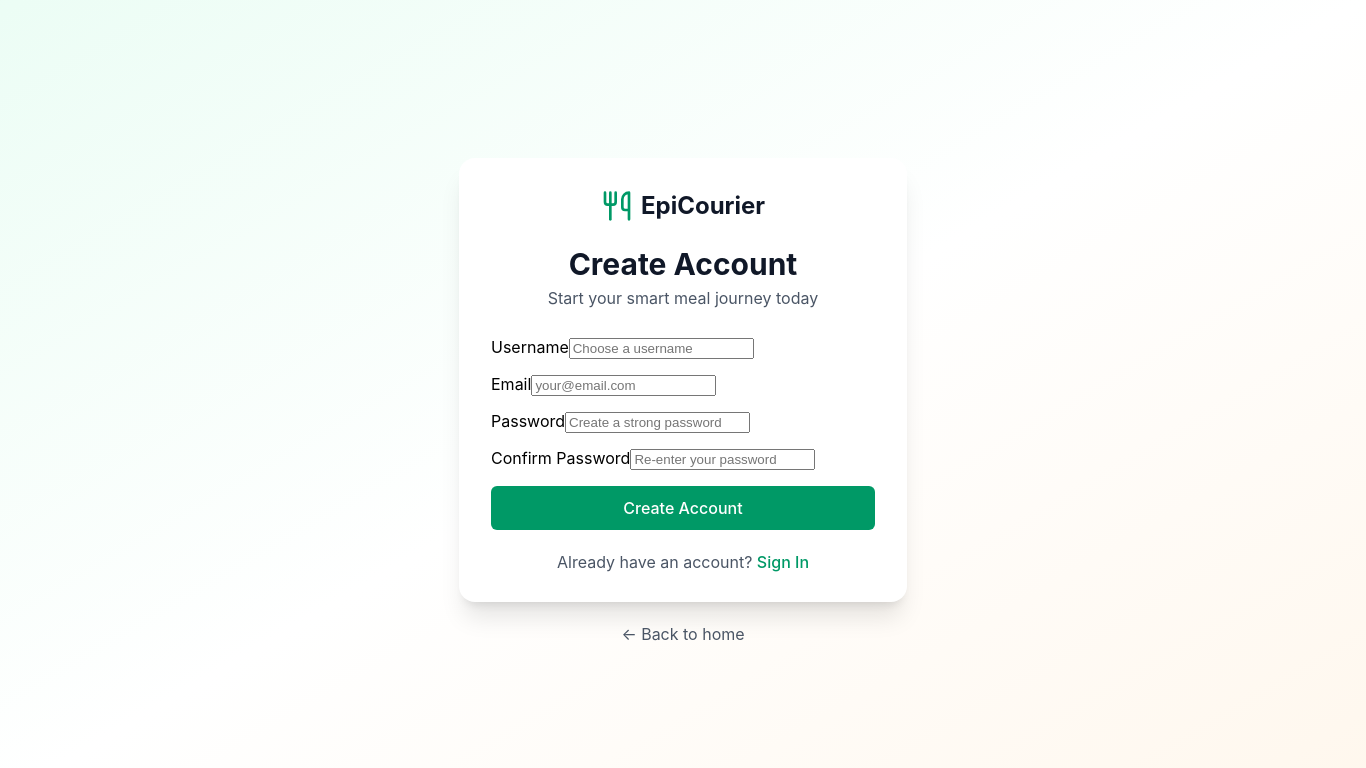
it: ✅ SignUp Component (stable tests) › shows invalid email format error
The width and height of the screenshot is (1366, 768).
Type "bademail" into the field labelled "Email".
click(624, 386); type("bademail")  # box [531, 375, 716, 396]
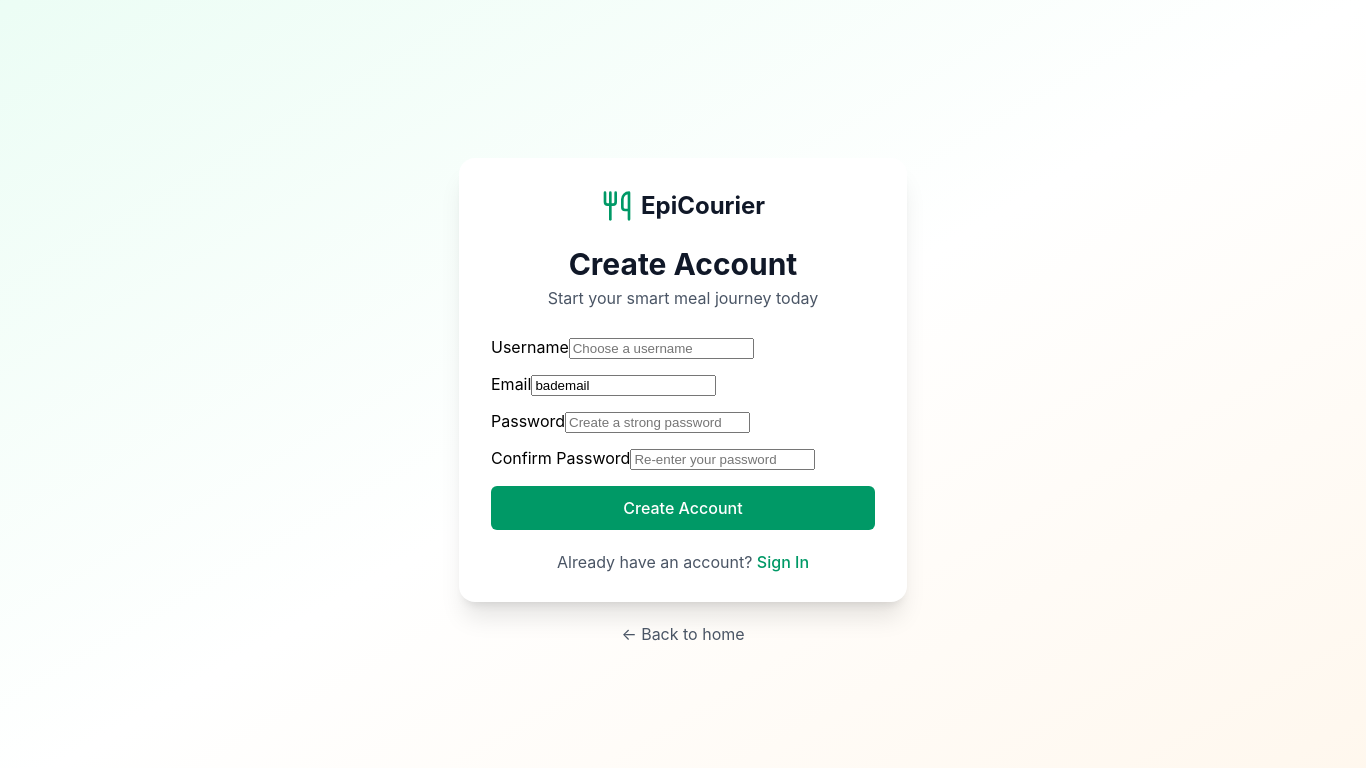
Type "u" into the field labelled "Username".
click(661, 348); type("u")  # box [569, 338, 754, 359]
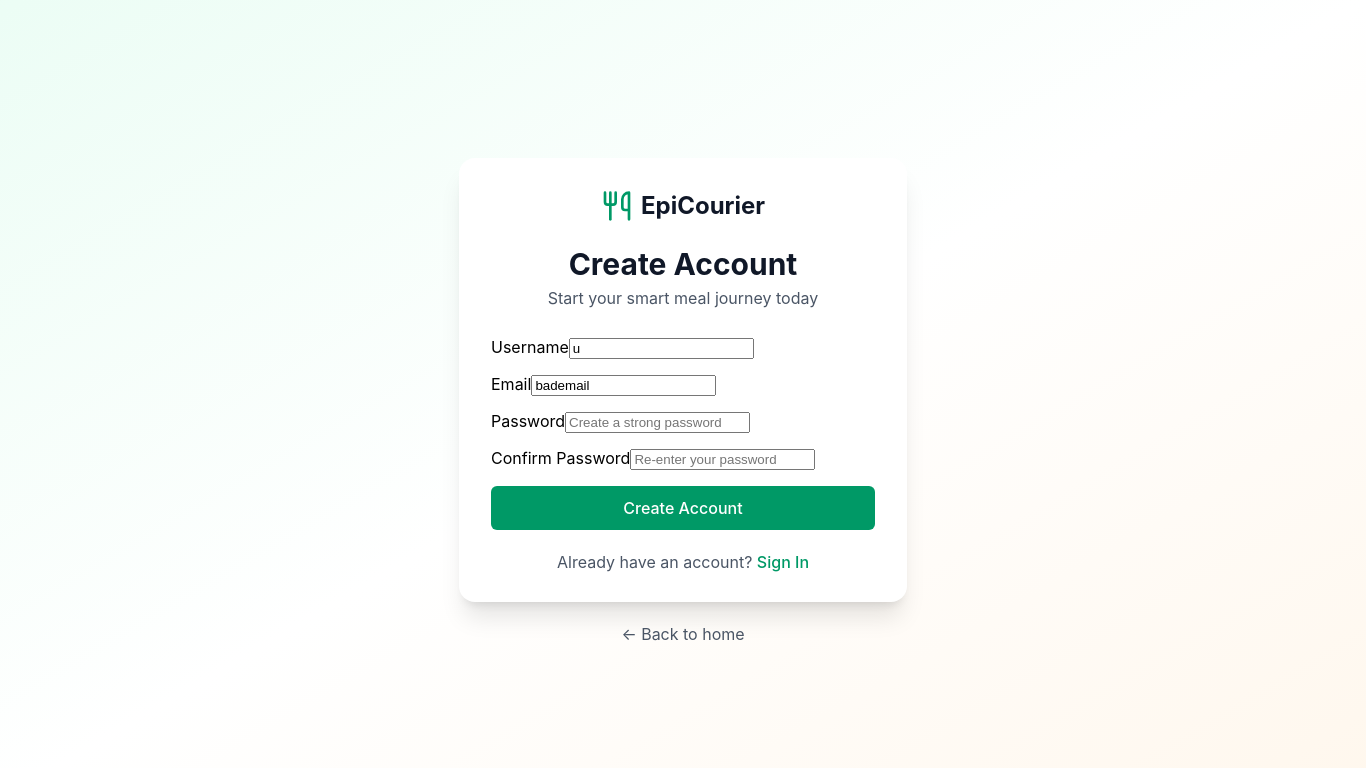
Type "Valid123!" into the password field labelled "Password".
click(658, 422); type("Valid123!")  # box [565, 412, 750, 433]
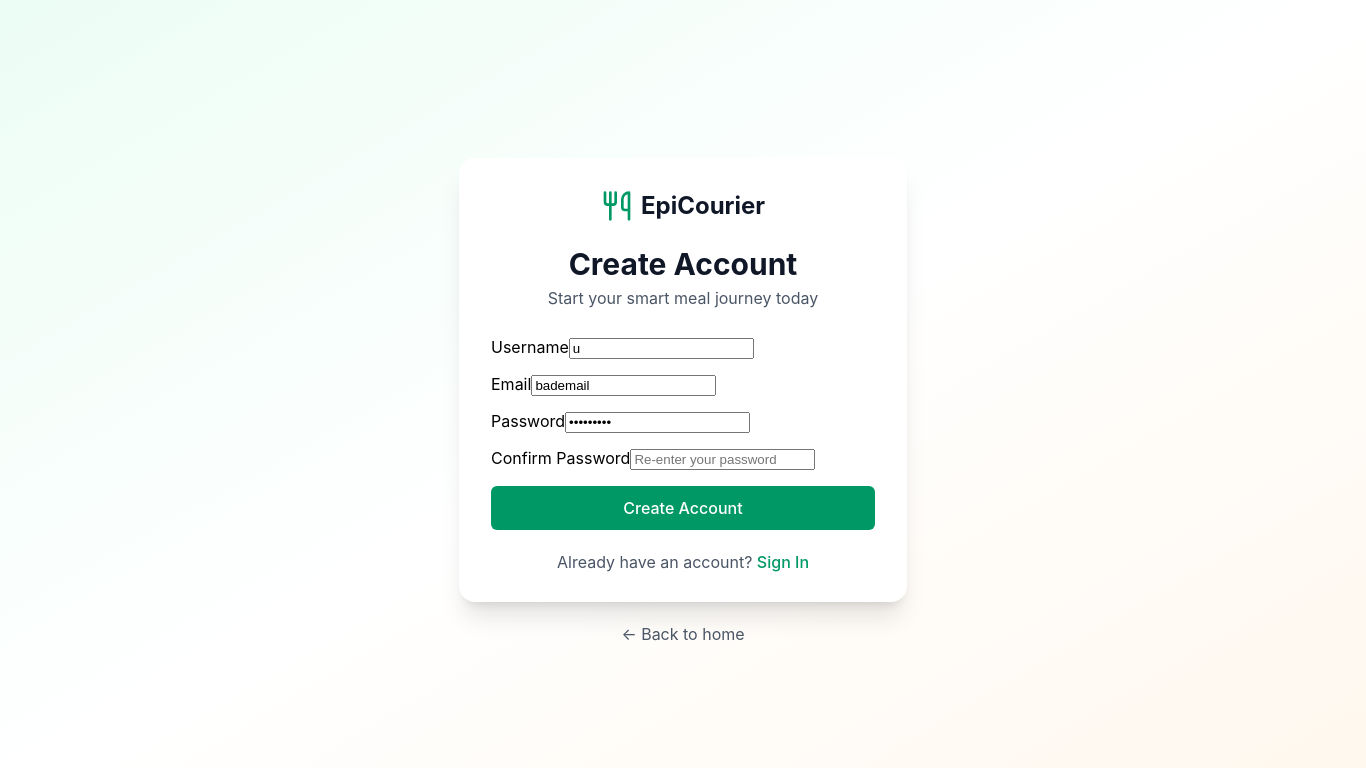
Type "Valid123!" into the password field labelled "Confirm Password".
click(723, 460); type("Valid123!")  # box [630, 449, 815, 470]
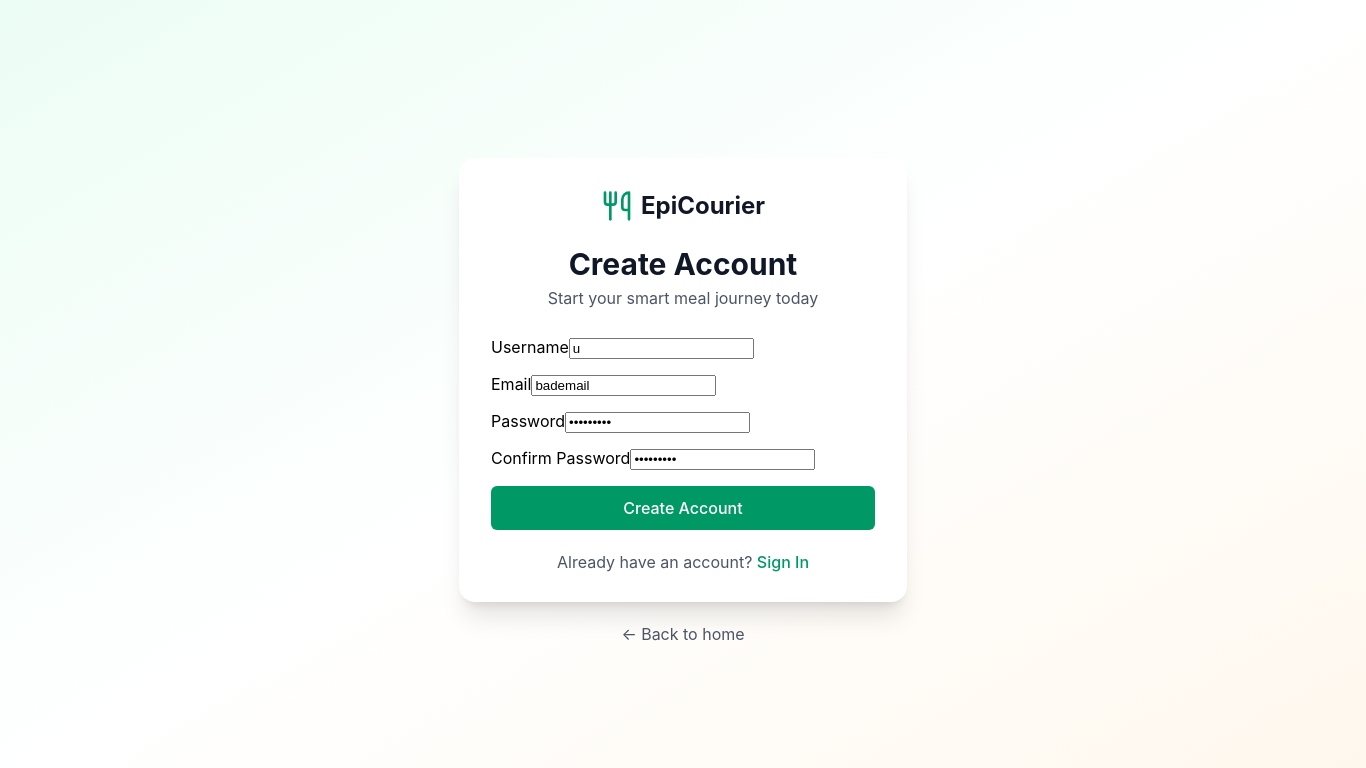
Click the button "Create Account".
click(683, 508)  # box [491, 486, 875, 530]
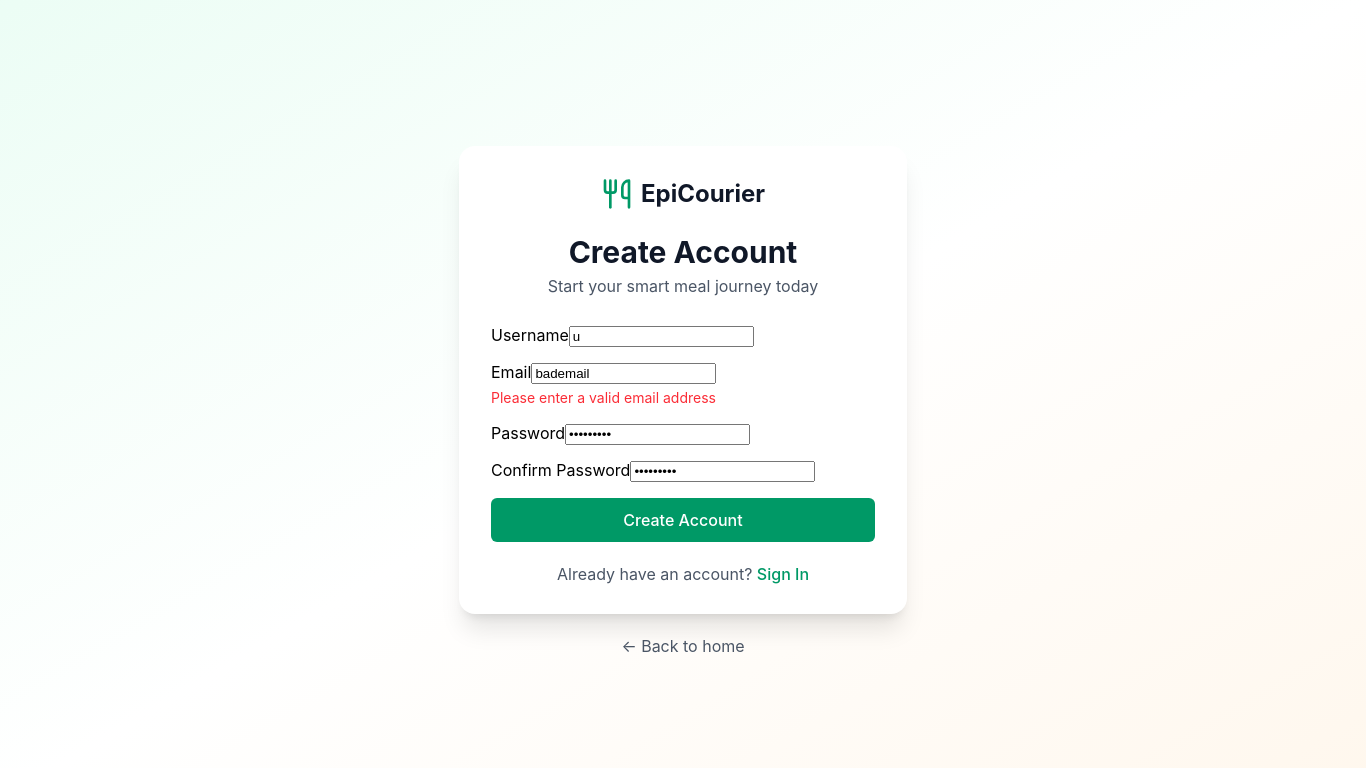
Expected: the text "Please enter a valid email address" is shown, [491, 389, 716, 406]
